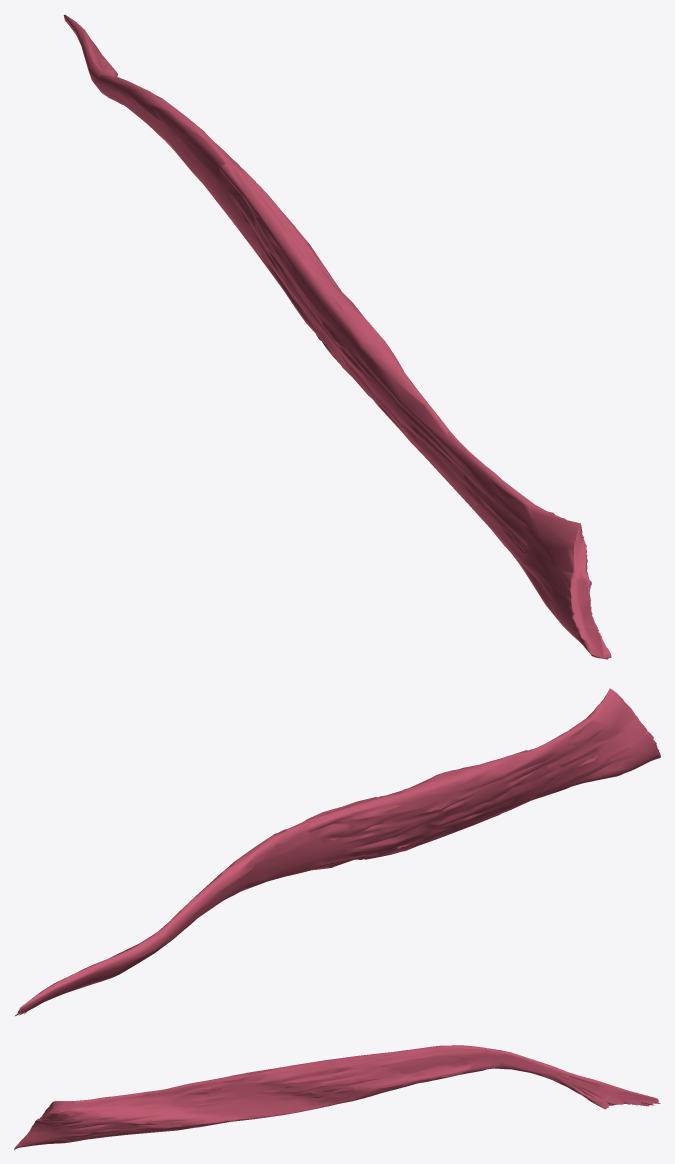
3 renders of one model, top to bottom at view 1: azimuth 30°, elevation 25°; view 2: azimuth 150°, elevation 25°; view 3: azimuth 270°, elevation 25°, orthographic. The views are drawn at different scales.
Parts seen in each view (by area): view 1: 左侧股薄肌; view 2: 左侧股薄肌; view 3: 左侧股薄肌.
Part boxes in pixels (x1,y1,x2,y2): 左侧股薄肌: [63, 14, 611, 659]; 左侧股薄肌: [14, 688, 660, 1016]; 左侧股薄肌: [14, 1045, 660, 1149].
Size of the model in its own units: 0.0781 by 0.1337 by 0.7272.
